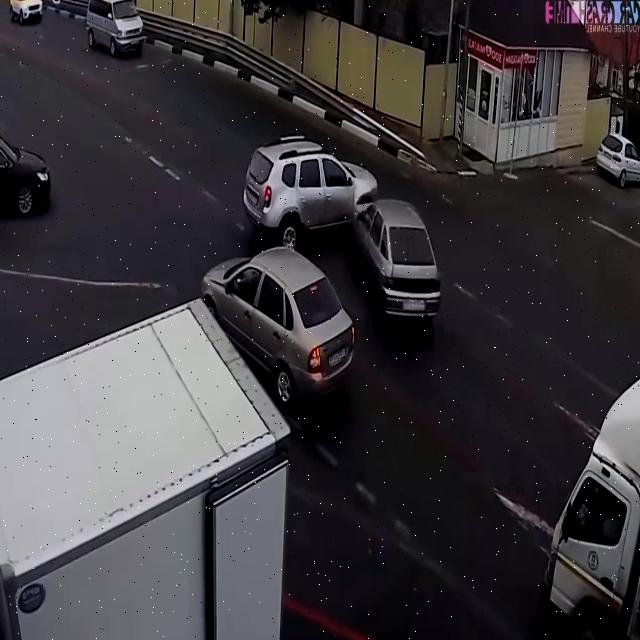accident: (235, 125, 446, 336)
